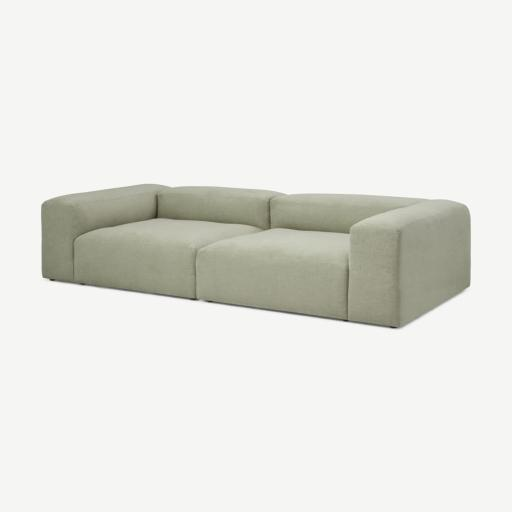back_cushion: (157, 187, 423, 234)
left_arm: (349, 200, 470, 327)
right_arm: (42, 184, 168, 281)
seat_cushion: (75, 218, 353, 321)
two-seater: (0, 0, 511, 512)
